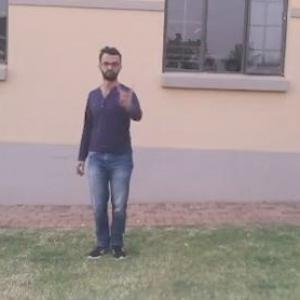takeoff-hand: (113, 74, 142, 113)
